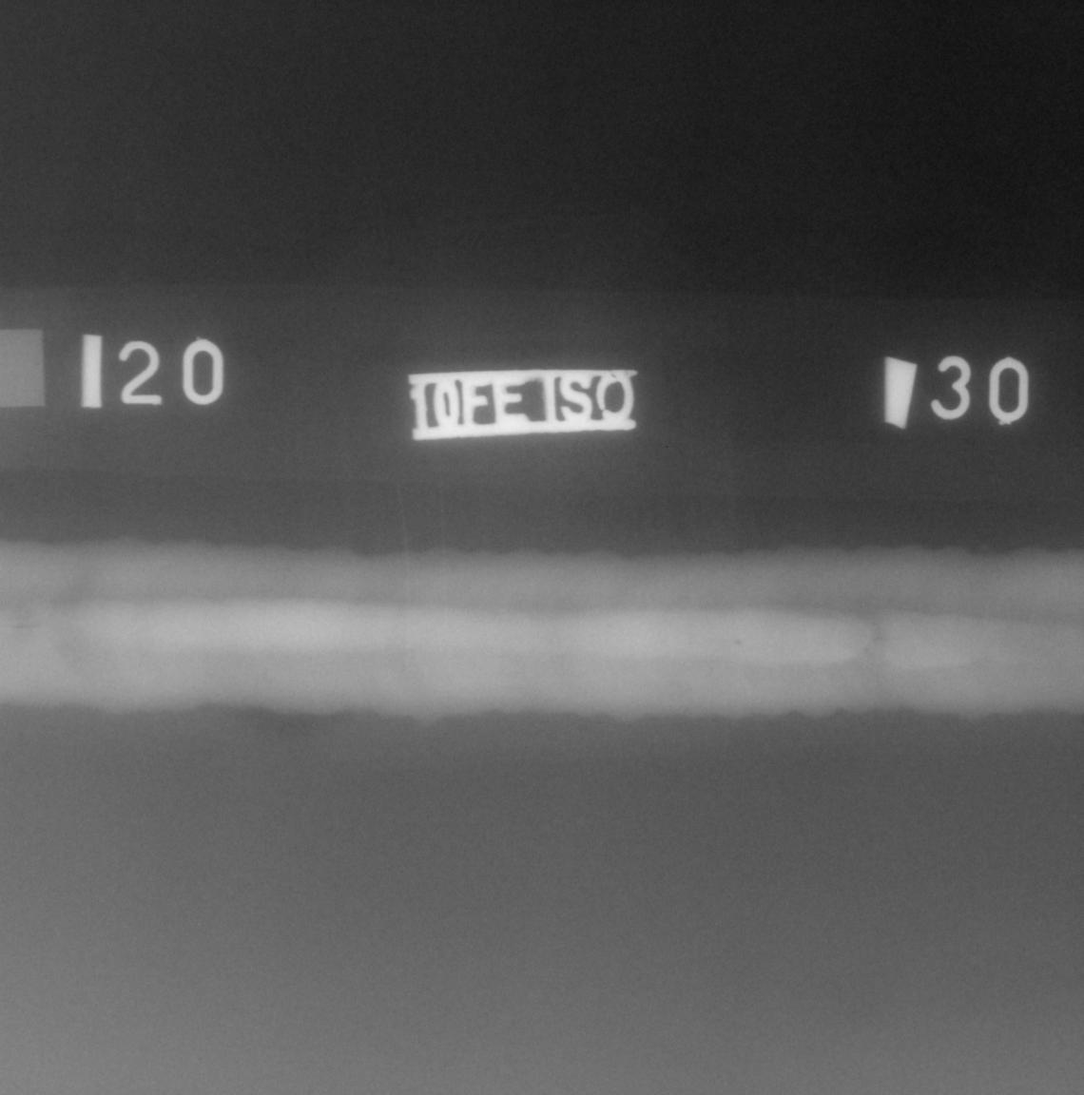Inclusion: (11, 626, 35, 628)
Incomplete Root Penetration: (874, 638, 884, 640)
Pore/Porosity: (684, 595, 690, 601), (735, 640, 740, 645), (864, 648, 868, 651), (607, 624, 610, 627)
